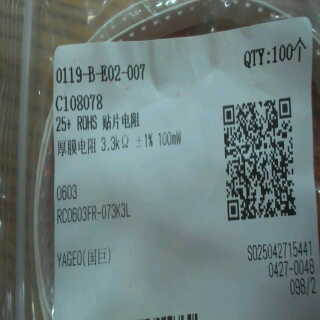3.3kO: (98, 132, 130, 155)
